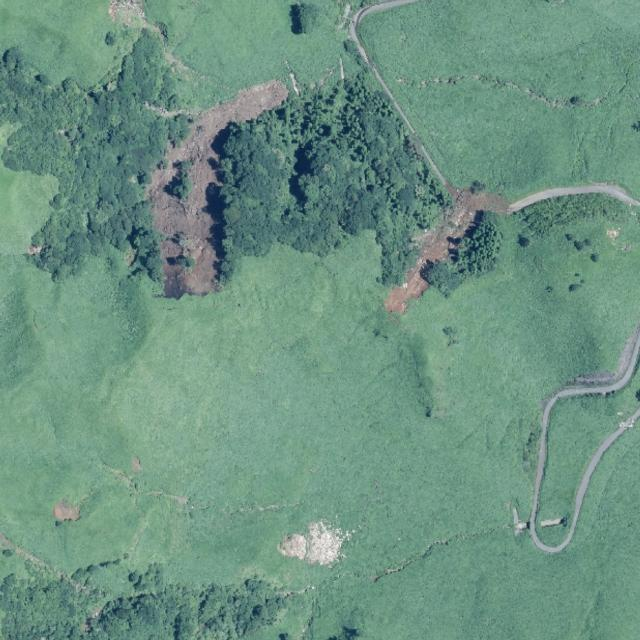landslide: (147, 80, 289, 298), (386, 152, 509, 313)
